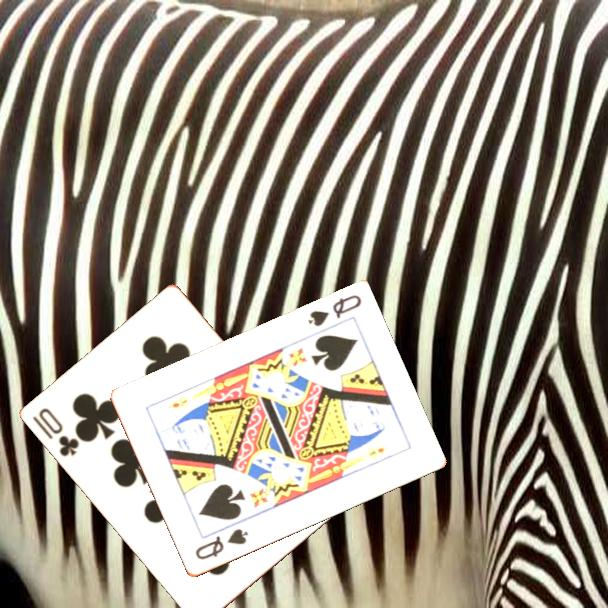c10: (29, 404, 83, 460)
s12: (191, 525, 251, 563), (304, 292, 364, 330)
